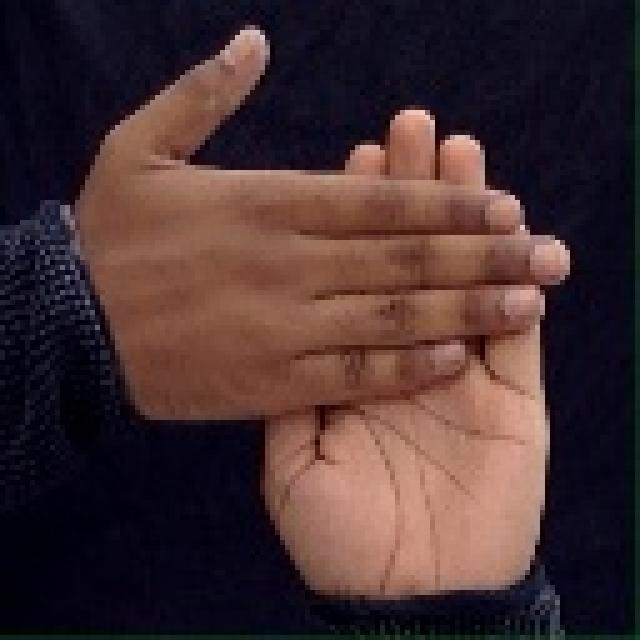Alphabet-H: (68, 22, 578, 614)
